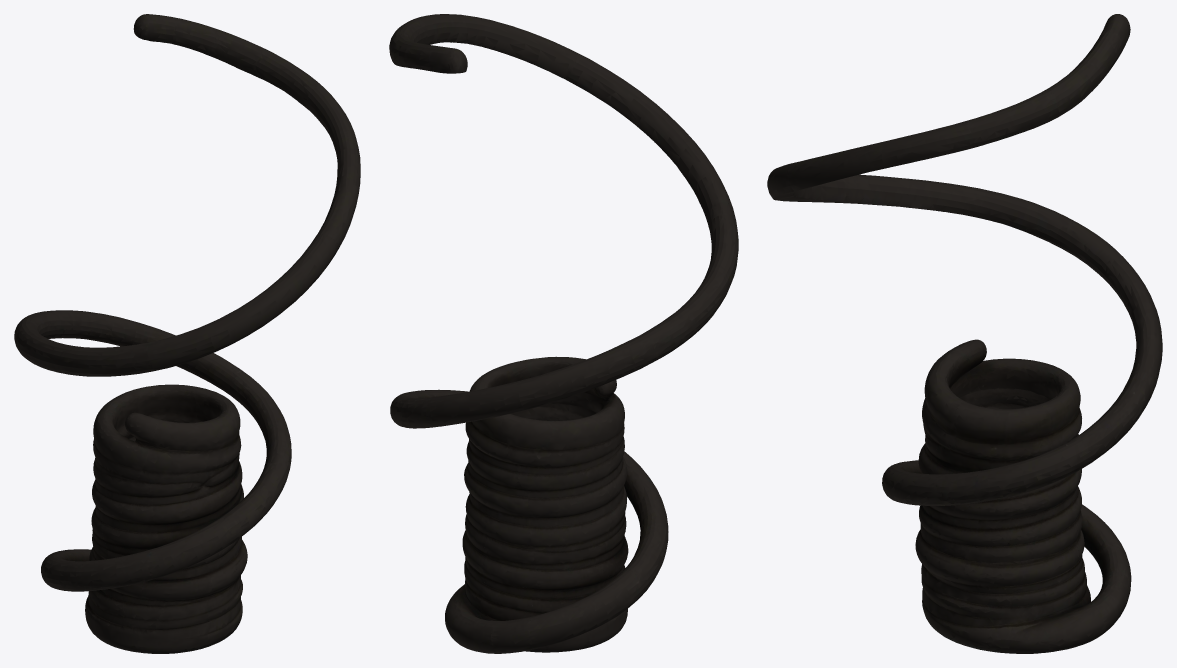
File: 03_8_gj_pen_holder3-opt-v13.glb
3 views of the same model, side by side, from view 1: azimuth 30°, elevation 25°; view 2: azimuth 150°, elevation 25°; view 3: azimuth 270°, elevation 25° (orthographic). The views are drawn at different scales.
Visible parts, largest first — view 1: tripo_node_c0a17e56-9fe7-4d46-a1d1-e5ac4fa9490a.002; view 2: tripo_node_c0a17e56-9fe7-4d46-a1d1-e5ac4fa9490a.002; view 3: tripo_node_c0a17e56-9fe7-4d46-a1d1-e5ac4fa9490a.002.
Boxes of the visible parts, left/top/right/bottom form: tripo_node_c0a17e56-9fe7-4d46-a1d1-e5ac4fa9490a.002: left=14, top=14, right=360, bottom=653; tripo_node_c0a17e56-9fe7-4d46-a1d1-e5ac4fa9490a.002: left=389, top=14, right=738, bottom=653; tripo_node_c0a17e56-9fe7-4d46-a1d1-e5ac4fa9490a.002: left=767, top=14, right=1162, bottom=653.
Size of the model in its own units: 0.15 by 0.2803 by 0.162.
Materials: 1 (1 with a texture image).
